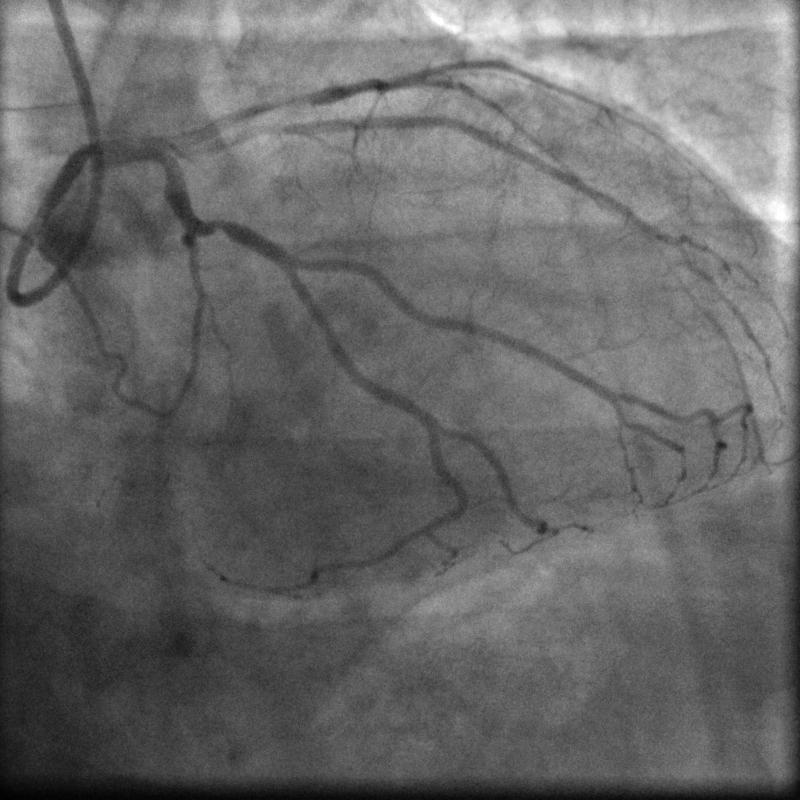Stenosis: (205, 217, 237, 236)
